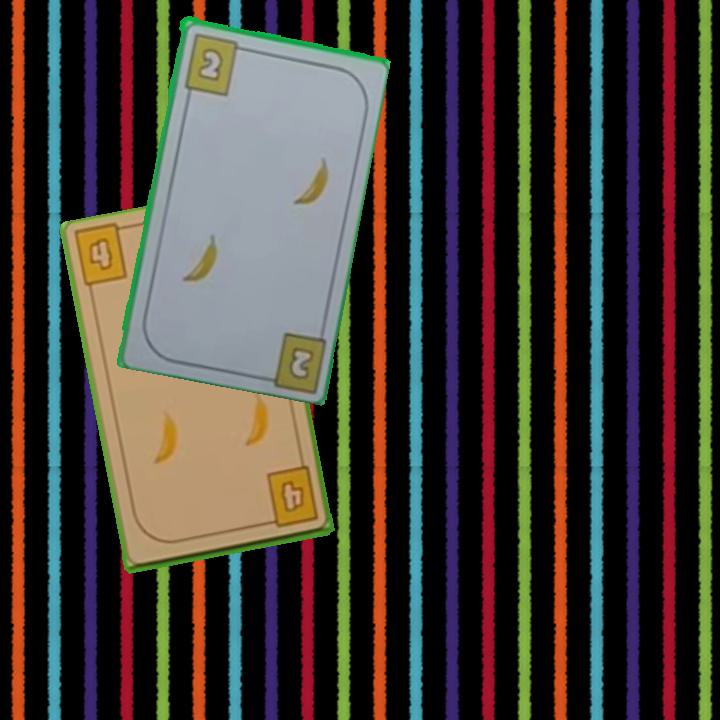2b: (180, 29, 250, 97), (287, 342, 317, 380)
4b: (257, 463, 321, 531), (84, 233, 116, 274)
